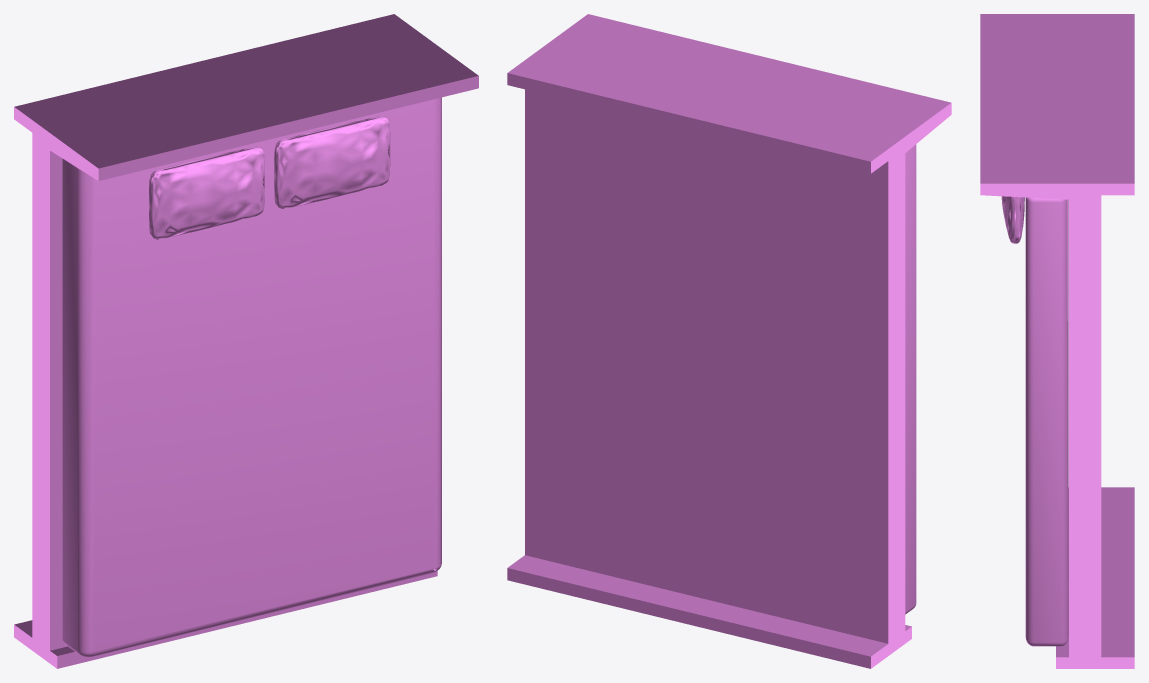
Rendered from bed2.obj.
3 views of the same model, side by side, from view 1: azimuth 30°, elevation 25°; view 2: azimuth 150°, elevation 25°; view 3: azimuth 270°, elevation 25° (orthographic). The views are drawn at different scales.
Visible parts, largest first — view 1: shuangren2.0*1.5; view 2: shuangren2.0*1.5; view 3: shuangren2.0*1.5.
Boxes of the visible parts, x1,y1,x2,y2 form: shuangren2.0*1.5: [14, 14, 478, 668]; shuangren2.0*1.5: [507, 14, 951, 668]; shuangren2.0*1.5: [980, 14, 1134, 668].
Bounding box in the file's own units: 150 × 200 × 57.67.
